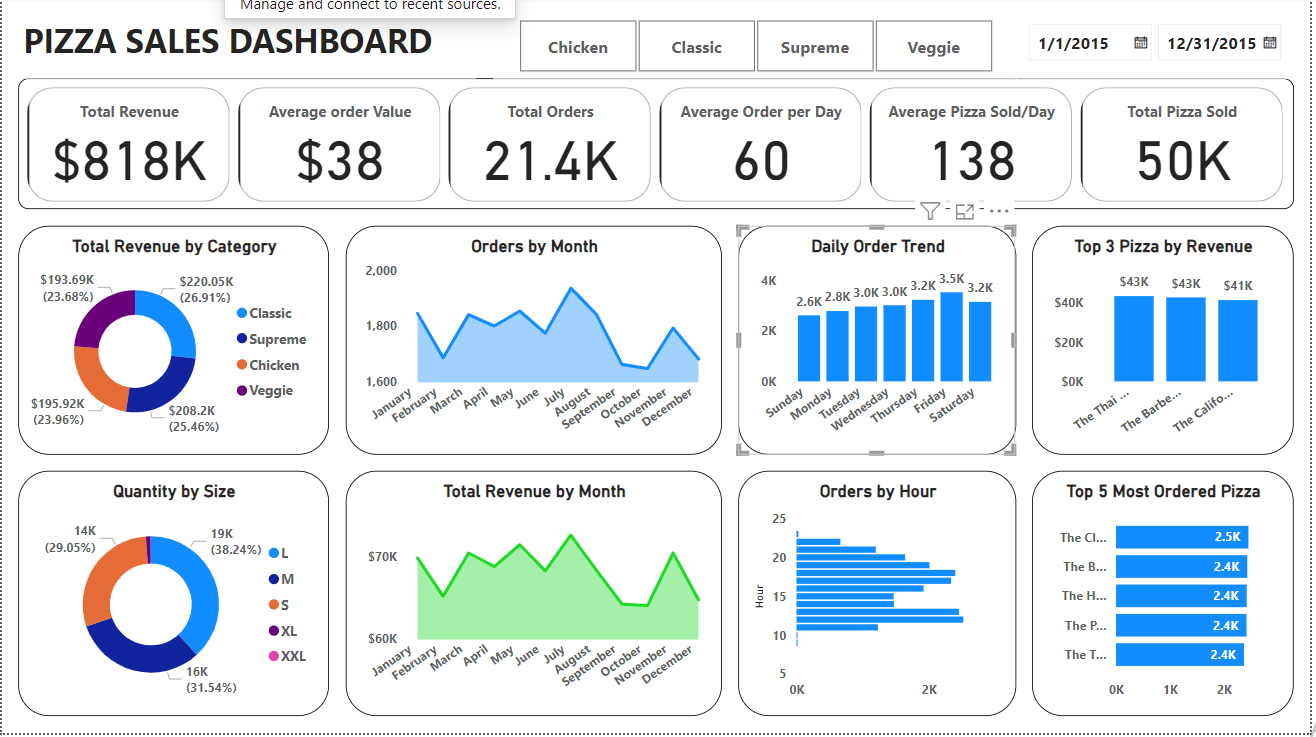

Layout of this report page (visuals, bound fields, positions):
{"tool":"powerbi","page":{"name":"Pizza_Sales","canvas":[1280,720],"ordinal":0},"visuals":[{"type":"donutChart","title":"Total Revenue by Category","fields":{"Category":["pizza_sales.category"],"Y":["Sum(pizza_sales.Total)"]},"box":[16,224,304,224],"z":0},{"type":"cardVisual","fields":{"Data":["Sum(pizza_sales.Total)","pizza_sales.Average pizza per order","Count(pizza_sales.order_id)","pizza_sales.Measure","pizza_sales.Average Pizza per Day","Sum(pizza_sales.quantity)"]},"box":[16,80,1248,128],"z":1000},{"type":"areaChart","title":"Total Revenue by Month","fields":{"Category":["pizza_sales.date.Variation.Date Hierarchy.Month"],"Y":["Sum(pizza_sales.Total)"]},"box":[336,464,368,240],"z":2000},{"type":"slicer","title":"Date","fields":{"Values":["pizza_sales.date"]},"box":[992,16,272,64],"z":3000},{"type":"areaChart","title":"Orders by Month","fields":{"Y":["Count(pizza_sales.order_id)"],"Category":["pizza_sales.date.Variation.Date Hierarchy.Month"]},"box":[336,224,368,224],"z":4000},{"type":"clusteredBarChart","title":"Orders by Hour","fields":{"Category":["pizza_sales.Hour"],"Y":["Count(pizza_sales.order_id)"]},"box":[720,464,272,240],"z":5000},{"type":"clusteredColumnChart","title":"Top 3 Pizza by Revenue","fields":{"Category":["pizza_sales.name"],"Y":["Sum(pizza_sales.Total)"]},"box":[1008,224,256,224],"z":6000},{"type":"clusteredBarChart","title":"Top 5 Most Ordered Pizza","fields":{"Category":["pizza_sales.name"],"Y":["Sum(pizza_sales.quantity)"]},"box":[1008,464,256,240],"z":7000},{"type":"donutChart","title":"Quantity by Size","fields":{"Category":["pizza_sales.size"],"Y":["Sum(pizza_sales.quantity)"]},"box":[16,464,304,240],"z":8000},{"type":"textbox","box":[16,16,448,64],"z":9000},{"type":"slicer","fields":{"Values":["pizza_sales.category"]},"box":[480,16,512,64],"z":10000},{"type":"clusteredColumnChart","title":"Daily Order Trend","fields":{"Category":["pizza_sales.Day Name"],"Y":["Count(pizza_sales.order_id)"]},"box":[720,224,272,224],"z":11000}]}

Visuals, with their boxes on the page's 1280x720 design canvas (x1, y1, x2, y2). These are canvas units, not pixel positions in the 1316x737 screenshot, which may show the page scaled, cropped or inside an application window:
"Total Revenue by Category" donutChart: <bbox>16, 224, 320, 448</bbox>
cardVisual - Sum(pizza_sales.Total) x pizza_sales.Average pizza per order: <bbox>16, 80, 1264, 208</bbox>
"Total Revenue by Month" areaChart: <bbox>336, 464, 704, 704</bbox>
"Date" slicer: <bbox>992, 16, 1264, 80</bbox>
"Orders by Month" areaChart: <bbox>336, 224, 704, 448</bbox>
"Orders by Hour" clusteredBarChart: <bbox>720, 464, 992, 704</bbox>
"Top 3 Pizza by Revenue" clusteredColumnChart: <bbox>1008, 224, 1264, 448</bbox>
"Top 5 Most Ordered Pizza" clusteredBarChart: <bbox>1008, 464, 1264, 704</bbox>
"Quantity by Size" donutChart: <bbox>16, 464, 320, 704</bbox>
textbox: <bbox>16, 16, 464, 80</bbox>
slicer - pizza_sales.category: <bbox>480, 16, 992, 80</bbox>
"Daily Order Trend" clusteredColumnChart: <bbox>720, 224, 992, 448</bbox>
